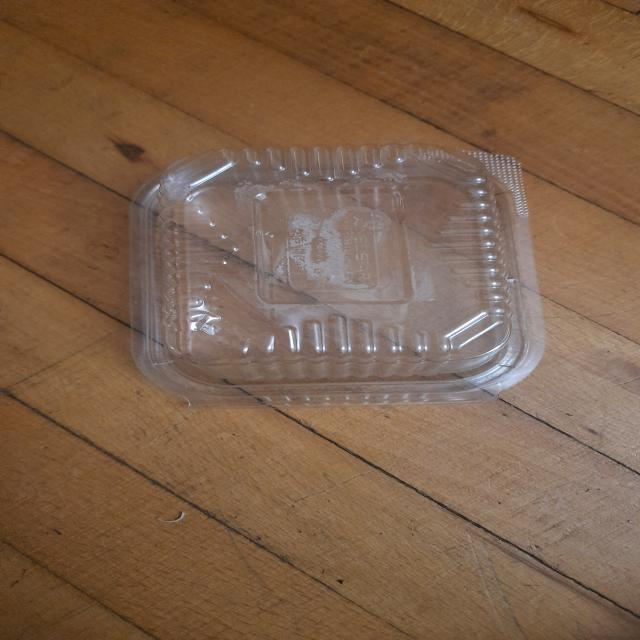plastic: (91, 96, 634, 442)
